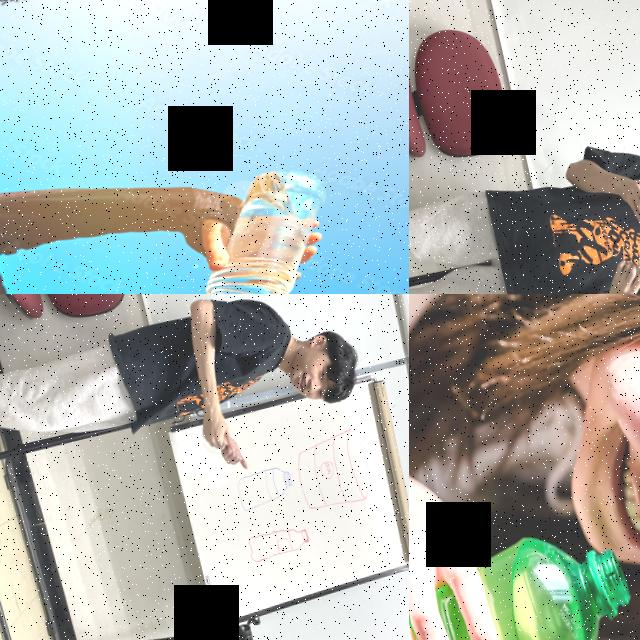bottle: (409, 513, 640, 640), (178, 158, 353, 294)
